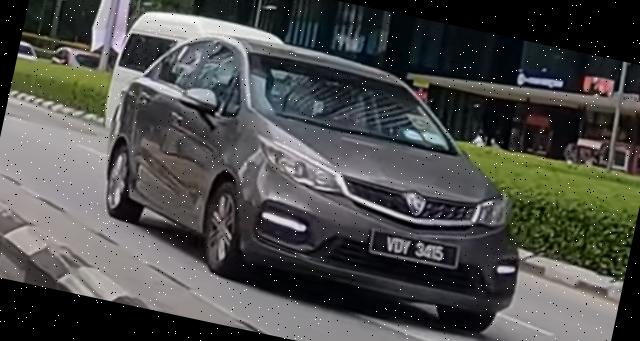License_Plate: (365, 225, 463, 274)
car: (84, 9, 558, 340)
